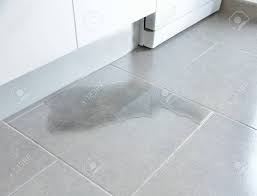Wet-floor: (39, 82, 212, 141)
